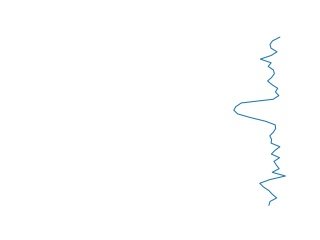interdistributaryEstuary: (229, 37, 292, 206)
